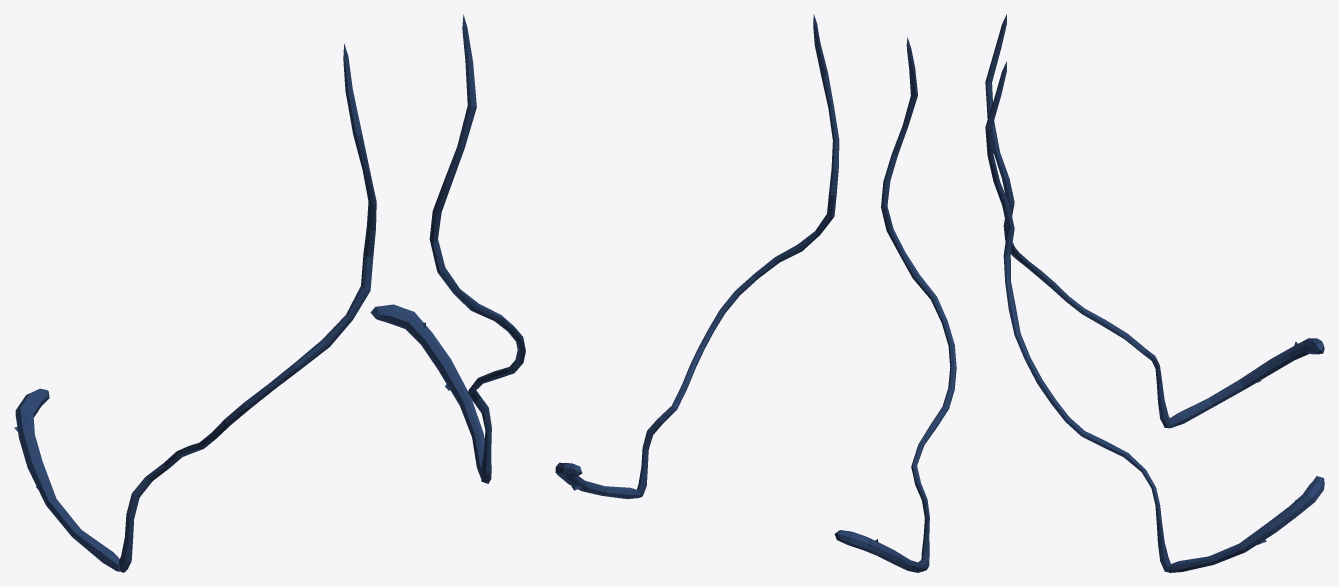
Rendered from Vena Facial.FBX.
3 renders of one model, left to right at view 1: azimuth 30°, elevation 25°; view 2: azimuth 150°, elevation 25°; view 3: azimuth 270°, elevation 25°, orthographic. The views are drawn at different scales.
Parts seen in each view (by area): view 1: CS_Veins; view 2: CS_Veins; view 3: CS_Veins.
Boxes of the visible parts, x1,y1,x2,y2 form: CS_Veins: (14, 14, 525, 572); CS_Veins: (555, 14, 956, 572); CS_Veins: (985, 14, 1324, 572).
Size of the model in its own units: 330 by 424 by 281.
